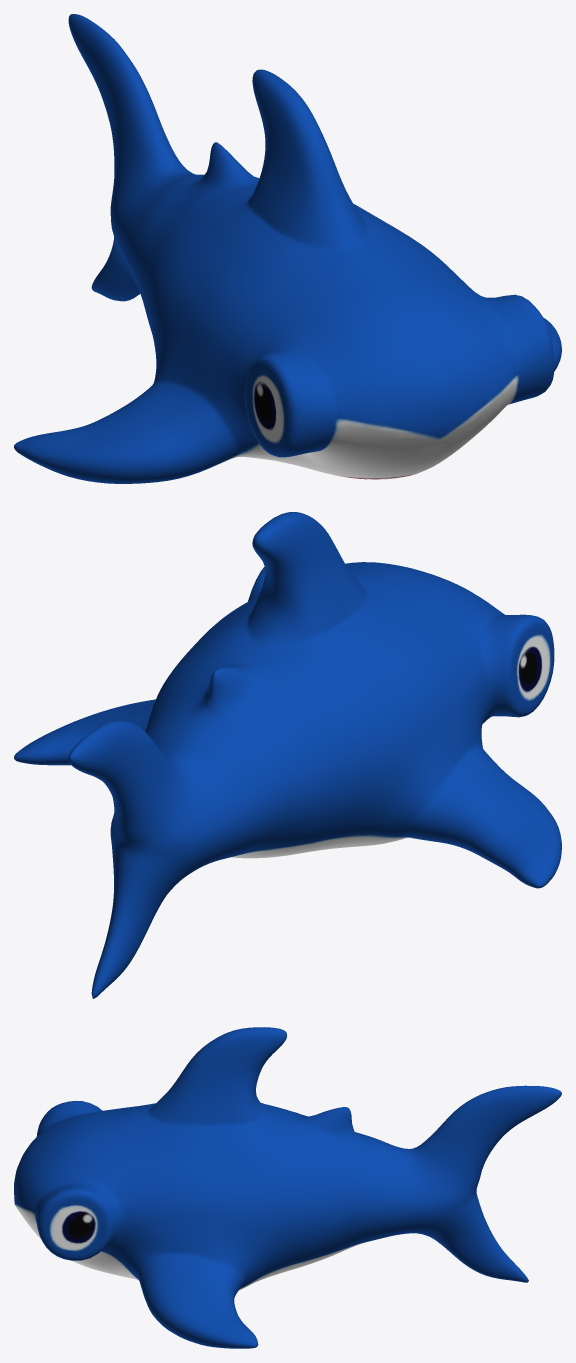
Rendered from Sharkk.fbx.
3 renders of one model, top to bottom at view 1: azimuth 30°, elevation 25°; view 2: azimuth 150°, elevation 25°; view 3: azimuth 270°, elevation 25°, orthographic. The views are drawn at different scales.
Visible parts, largest first — view 1: Group57338; view 2: Group57338; view 3: Group57338.
Boxes of the visible parts, box(x1,y1,x2,y2) form: Group57338: box(14, 14, 561, 483); Group57338: box(14, 512, 561, 998); Group57338: box(14, 1027, 561, 1348).
Size of the model in its own units: 1104 by 689 by 1343.
1 material, 1 textured.
